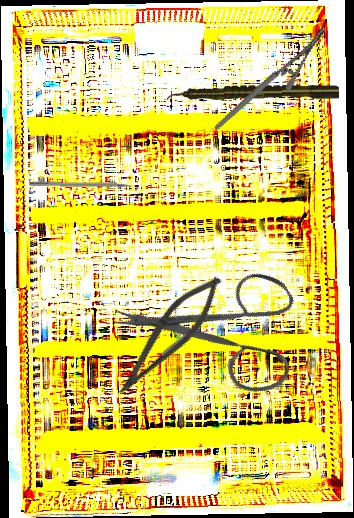Handpiece: (166, 83, 340, 103)
Hook Surgical: (29, 180, 148, 190)
Iris Scissors: (105, 224, 330, 445)
Micro Scissor: (108, 264, 232, 409)
Needle Holder: (194, 26, 345, 131)
